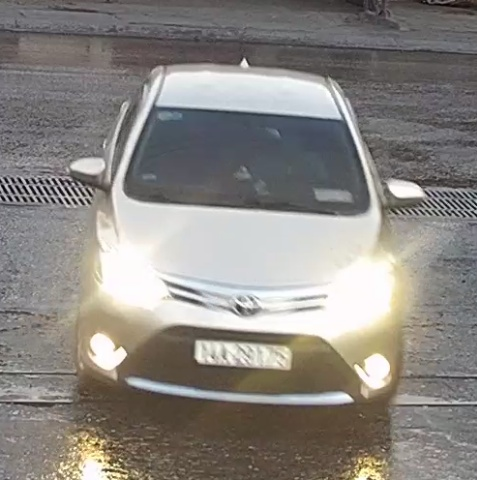vehicle plate: (189, 331, 301, 371)
